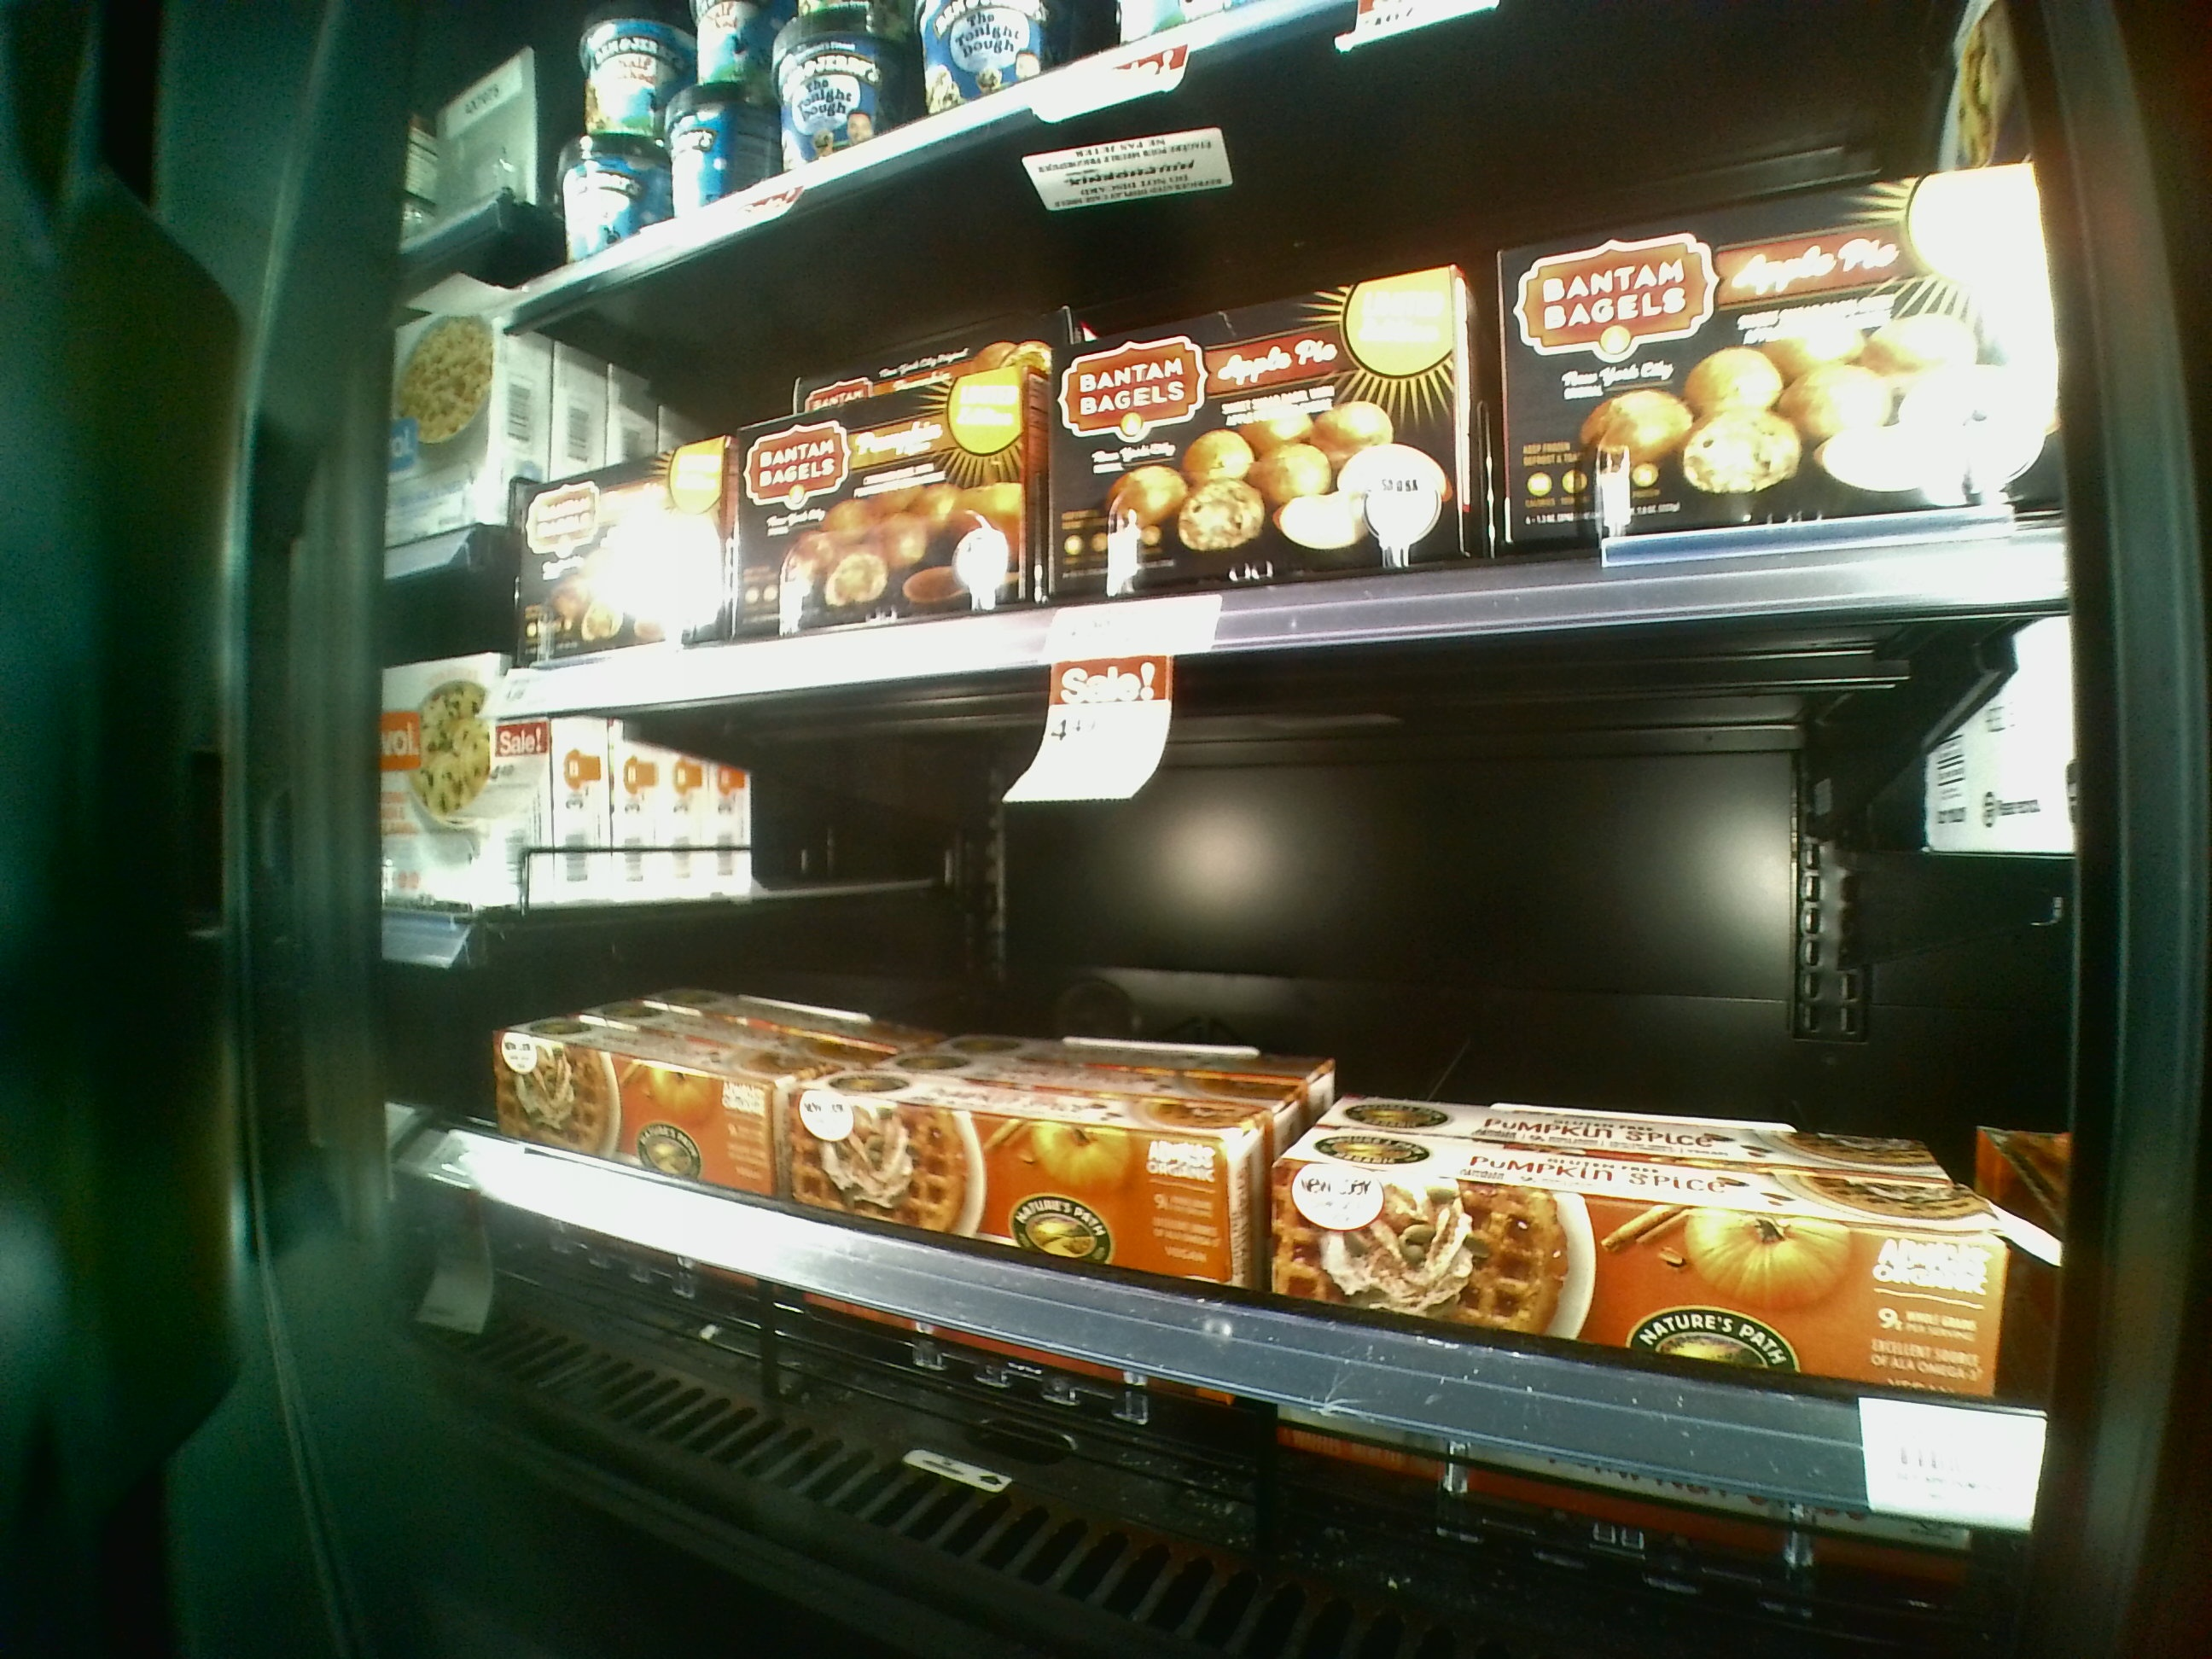shelf: (479, 582, 2019, 1500), (509, 164, 2054, 605)
